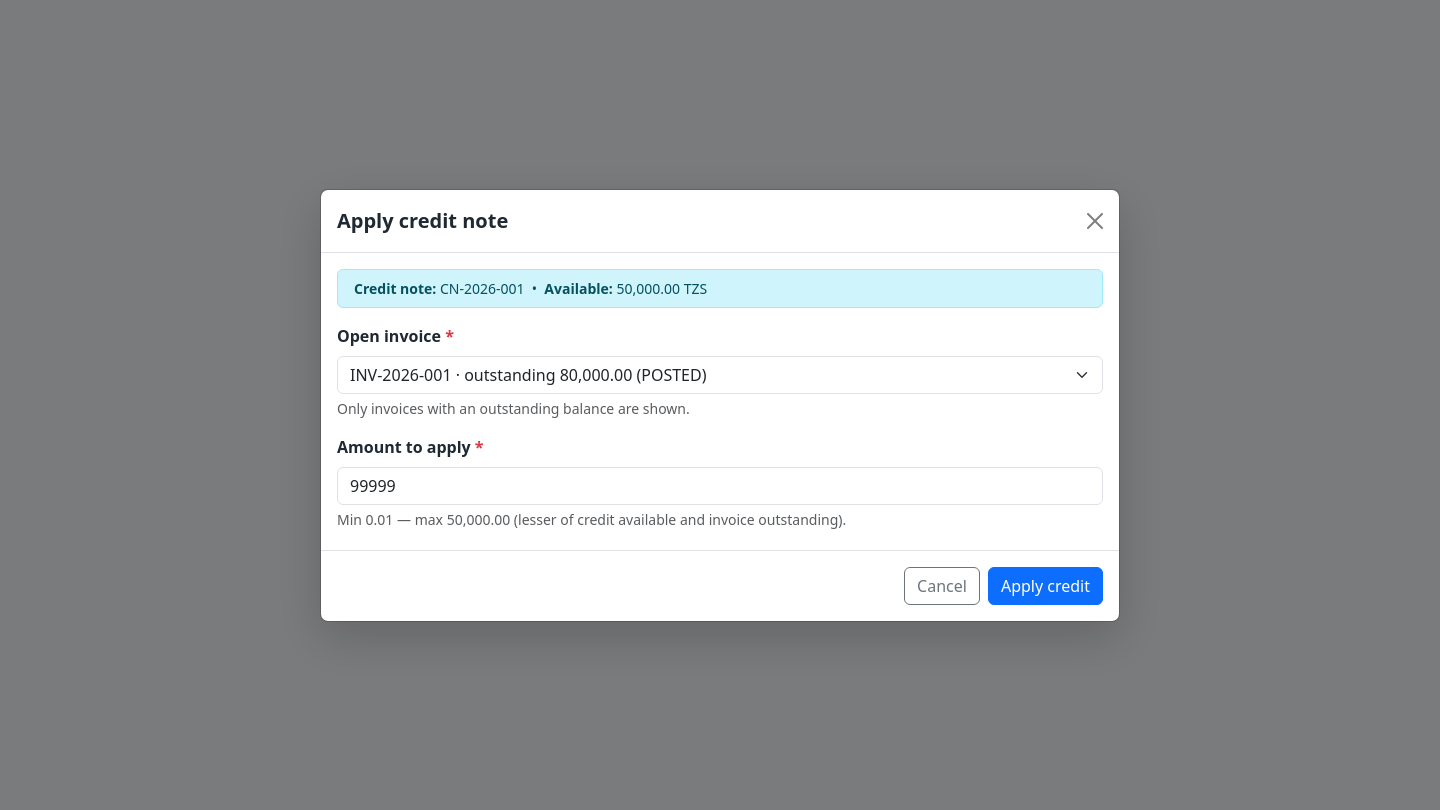
Test: CreditNoteApplyModalComponent › form validation › shows error when amount exceeds max (min of available and outstanding)
Click the submit button at (1045, 586), box [988,566,1103,604]
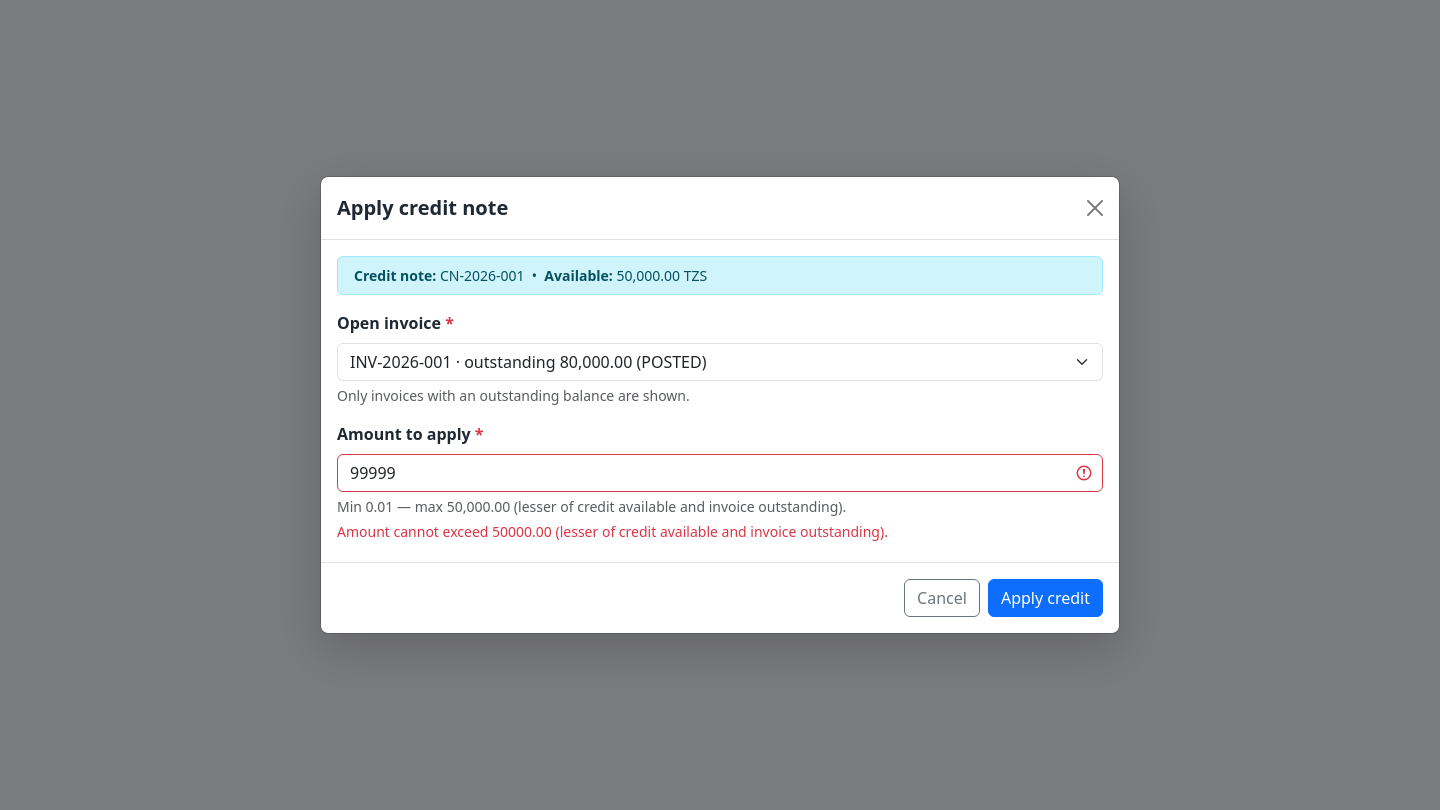
Expected: the text "cannot exceed" is shown, [337,522,888,541]
